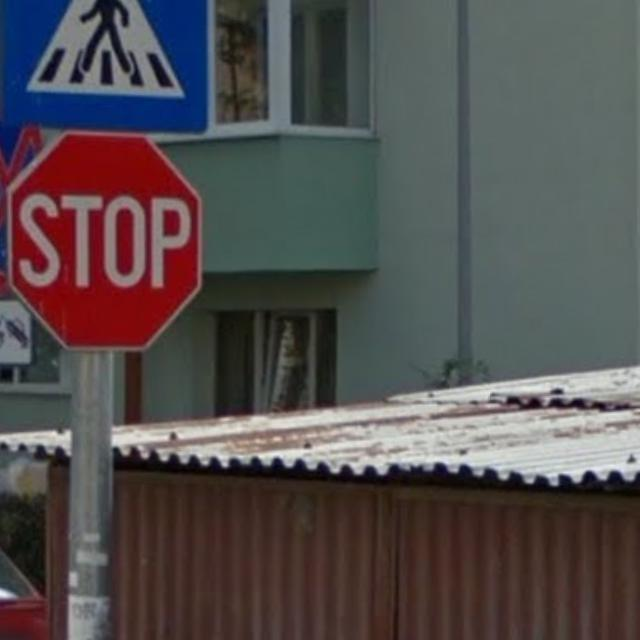prio_stop: (6, 130, 202, 356)
